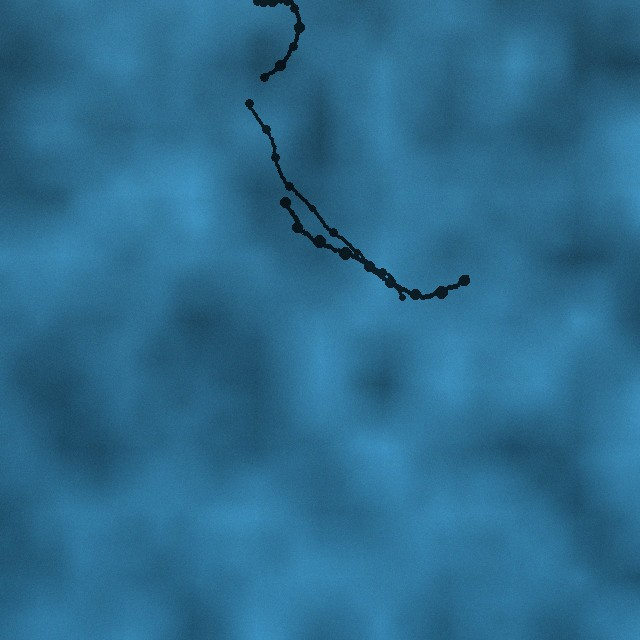crack: (243, 98, 408, 302), (278, 195, 475, 304), (249, 0, 305, 83)
